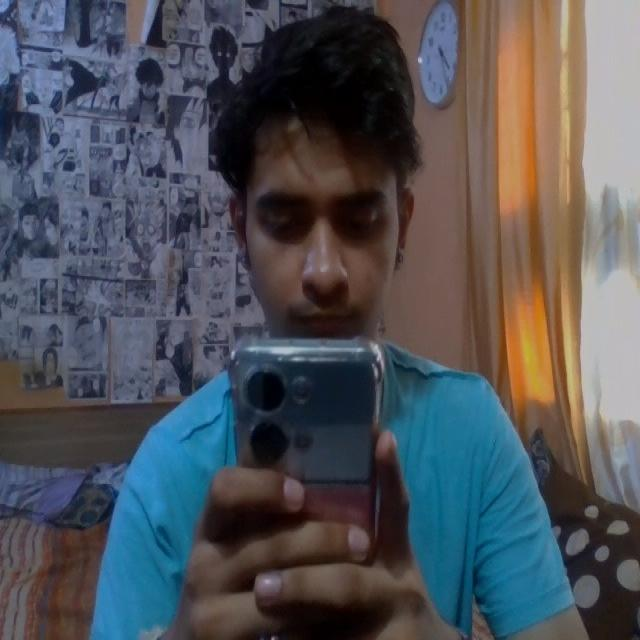phone: (232, 338, 387, 566)
using-phone: (94, 11, 590, 640)
